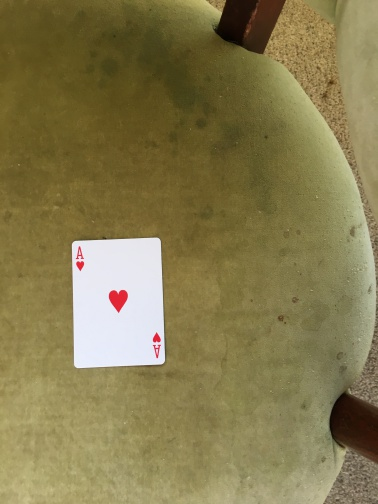ace: (69, 236, 168, 368)
